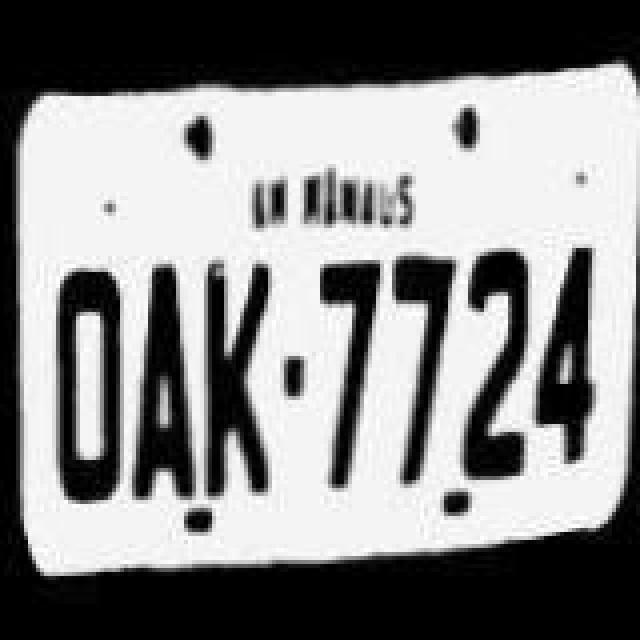2: (456, 238, 536, 490)
4: (526, 232, 602, 480)
7: (300, 250, 392, 514), (386, 240, 462, 504)
A: (120, 256, 196, 508)
K: (192, 250, 276, 510)
O: (44, 250, 136, 518)
